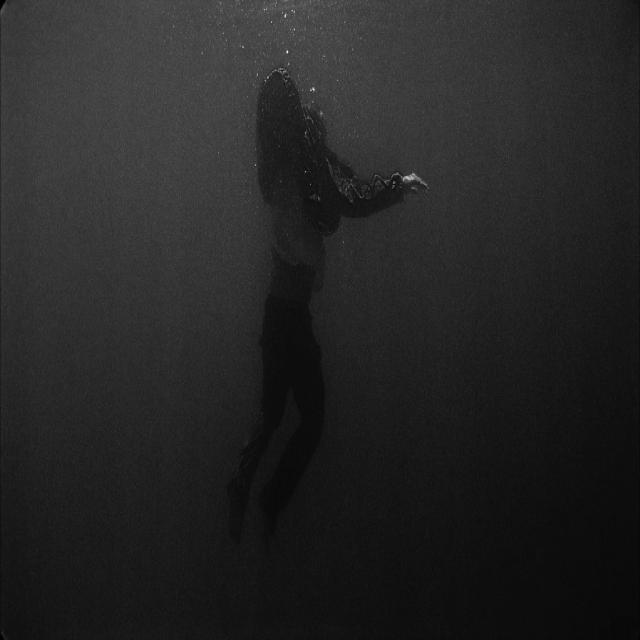drowning: (234, 29, 492, 603)
